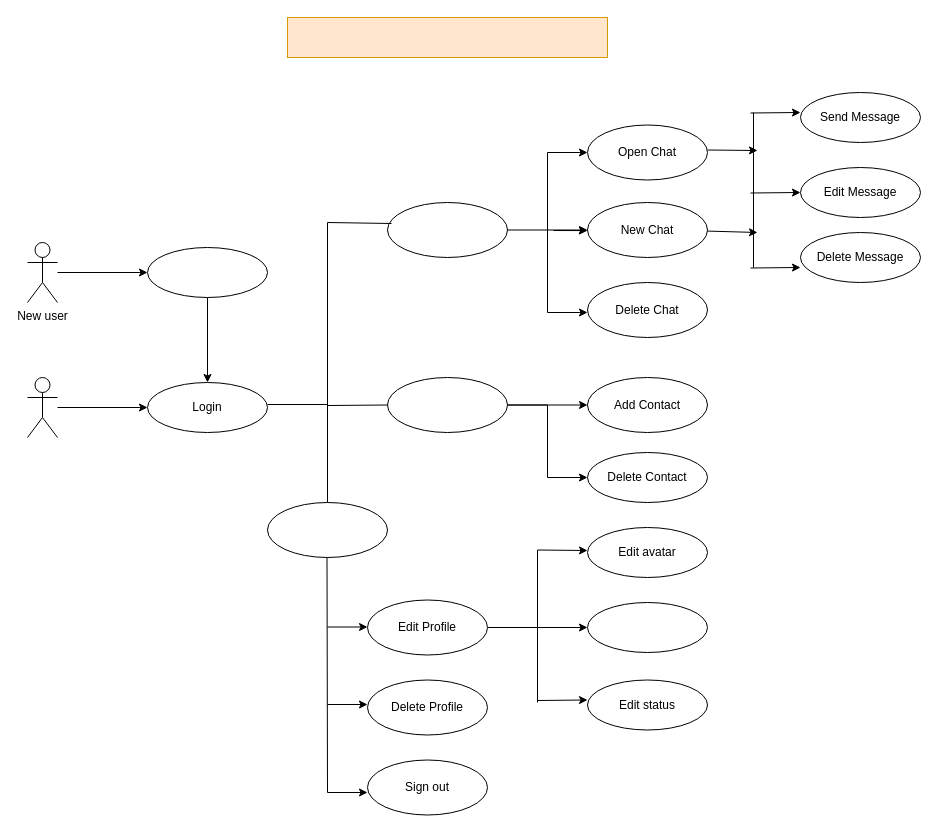
Image size: 938x833. Some labels were removed from this diagram. The centre of each missing label's shape, as x and y in pixels:
Chat List: point (447, 230)
Contacts: point (447, 404)
Edit name: point (647, 627)
Registration: point (207, 272)
Settings: point (327, 530)
Use Case Diagram For Messenger: point (447, 37)
User: point (42, 407)
